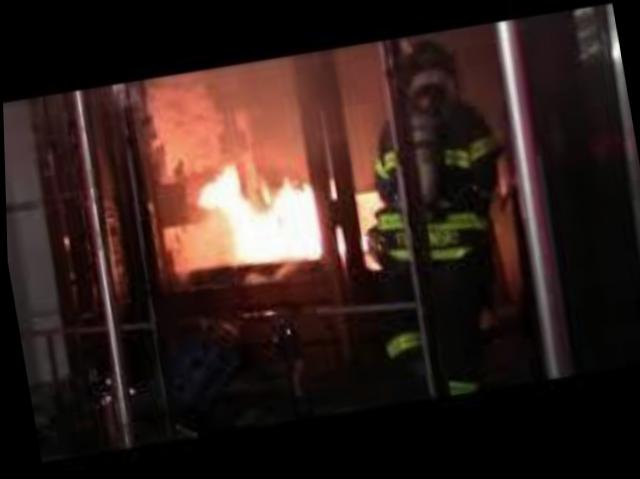fire: (166, 128, 366, 290)
